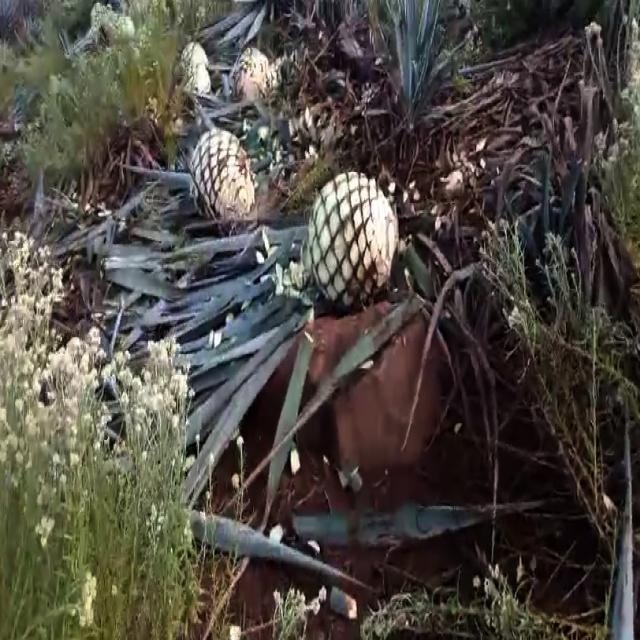agave: (303, 168, 399, 304), (187, 126, 256, 227), (230, 40, 275, 104), (180, 36, 214, 101)
